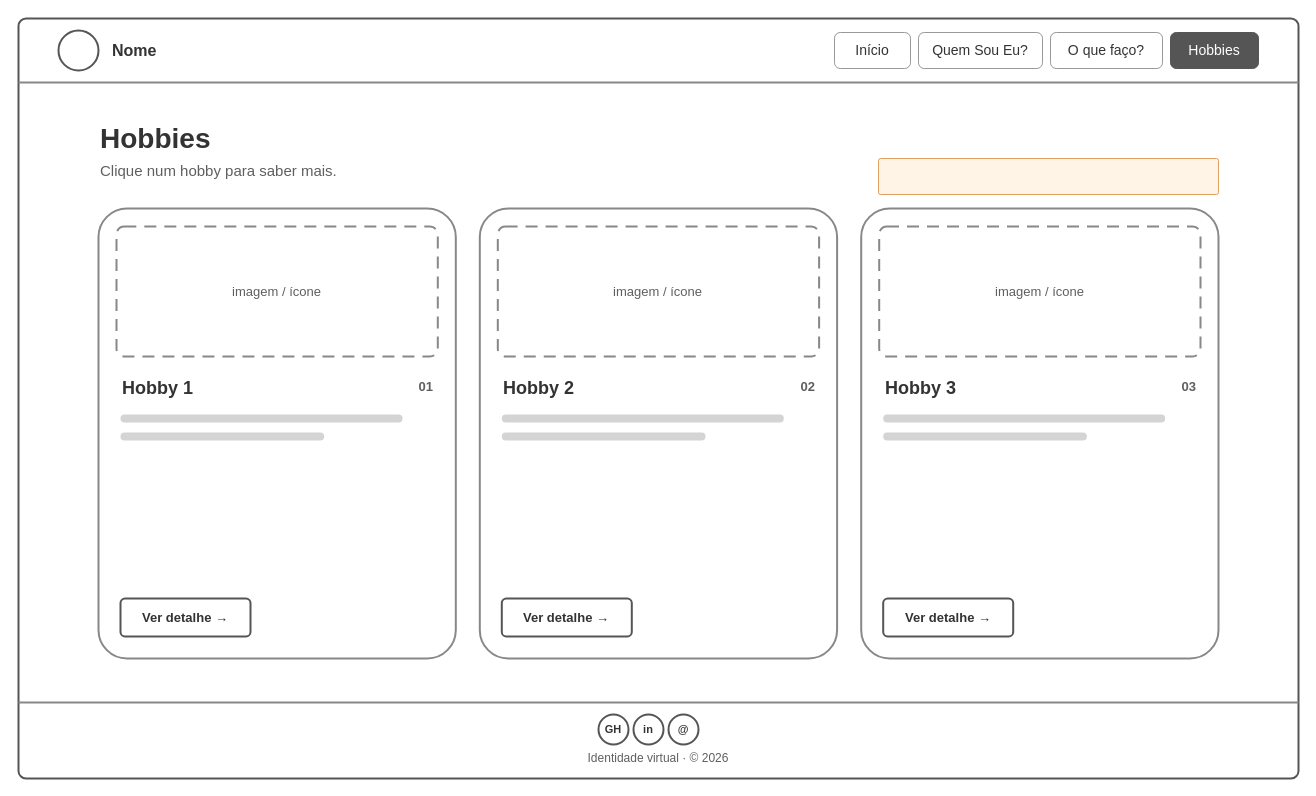
The diagram is 1316 pixels wide and 796 high, and some of its shapes have lost their labels. The shapes that lost their labels are listed below. From the top down, each one's centre as x and y in pixels, then its label:
At (78,50): "JB".
At (1048,176): "Clique num cartão → janela modal com o mesmo formato da vista 4".
